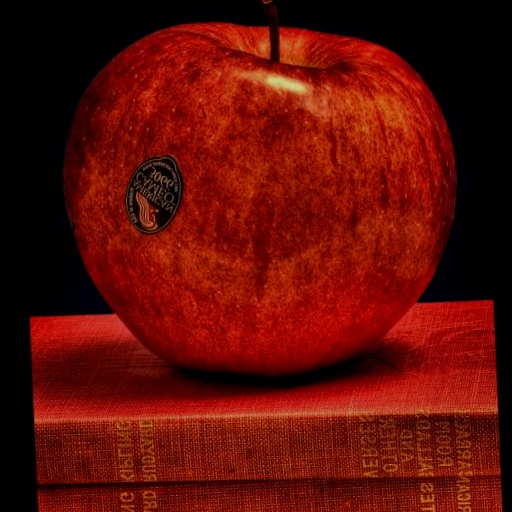fruit: (63, 23, 455, 377)
